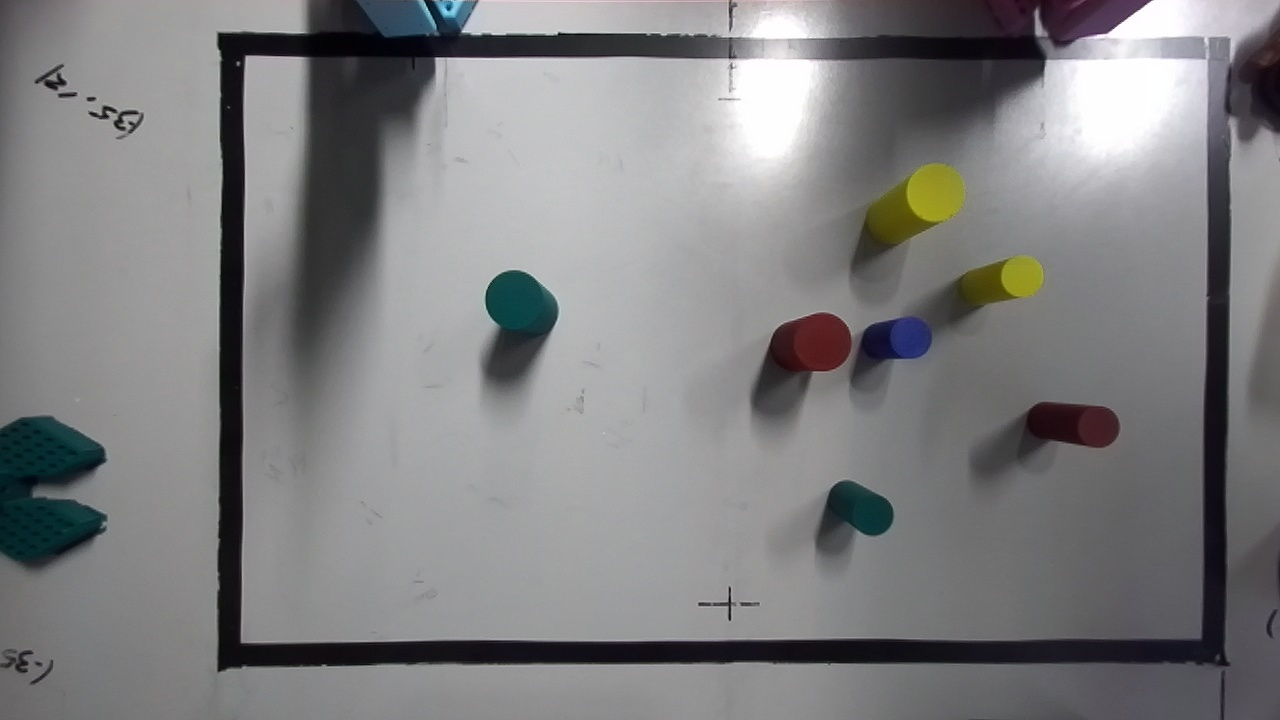cylinder: (865, 163, 964, 244), (769, 312, 851, 371), (485, 270, 558, 333), (1027, 402, 1119, 447), (959, 256, 1043, 304), (827, 480, 893, 535), (861, 317, 931, 359)
